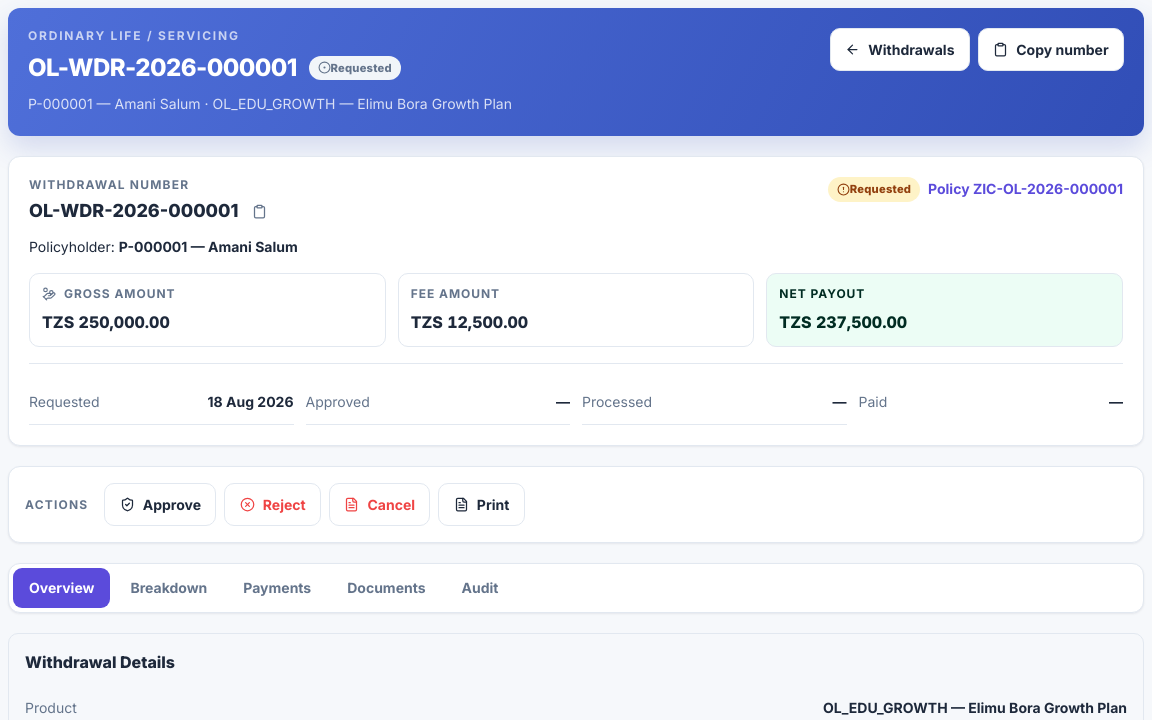
Test: OL Withdrawal detail Prompt 4 › renders the backend breakdown and payment data when tabs are selected
Click the button "Breakdown": [169, 588] box [114,568,223,608]
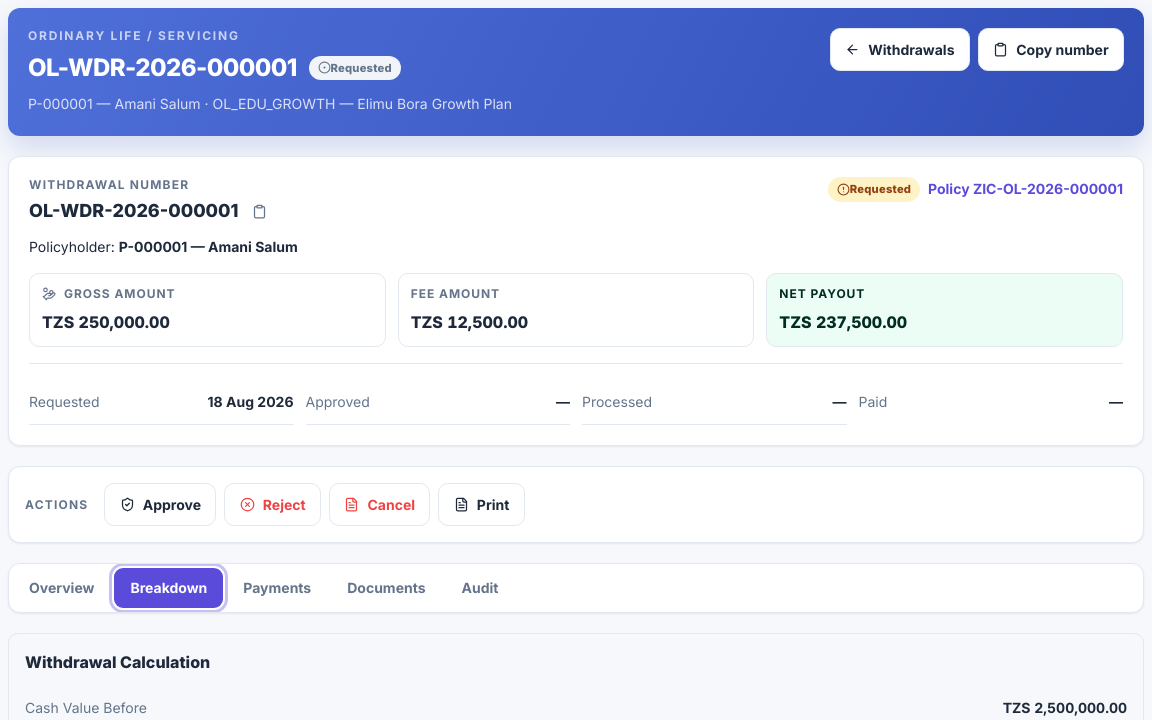
Expected: the text "TZS 2,500,000.00" is shown, [1003,699,1127,716]
Expected: the heading "Withdrawal Calculation" is shown, [25,652,210,672]
Click the button "Payments": [277, 588] box [227,568,327,608]
(page scrolled)
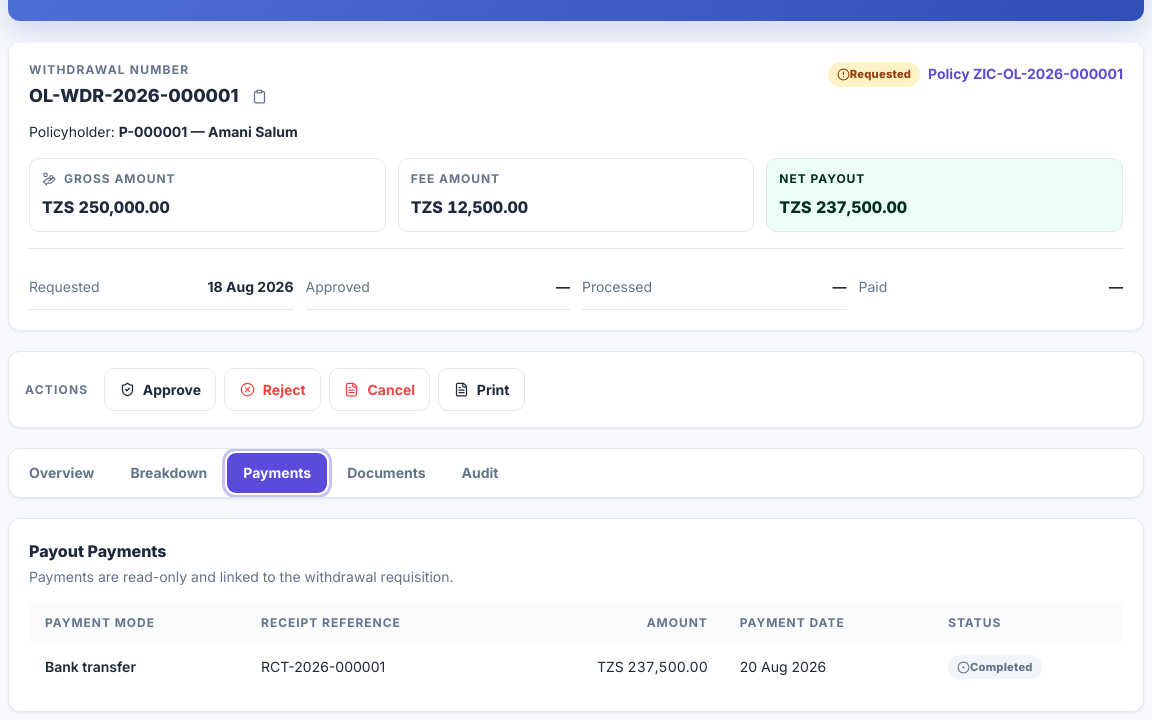
Expected: the heading "Payout Payments" is shown, [29,541,166,561]
Expected: the text "RCT-2026-000001" is shown, [245,643,506,691]
